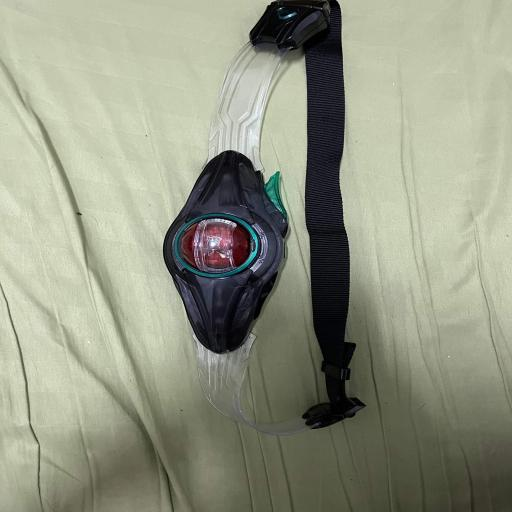zeztzdriver: (163, 0, 365, 435)
